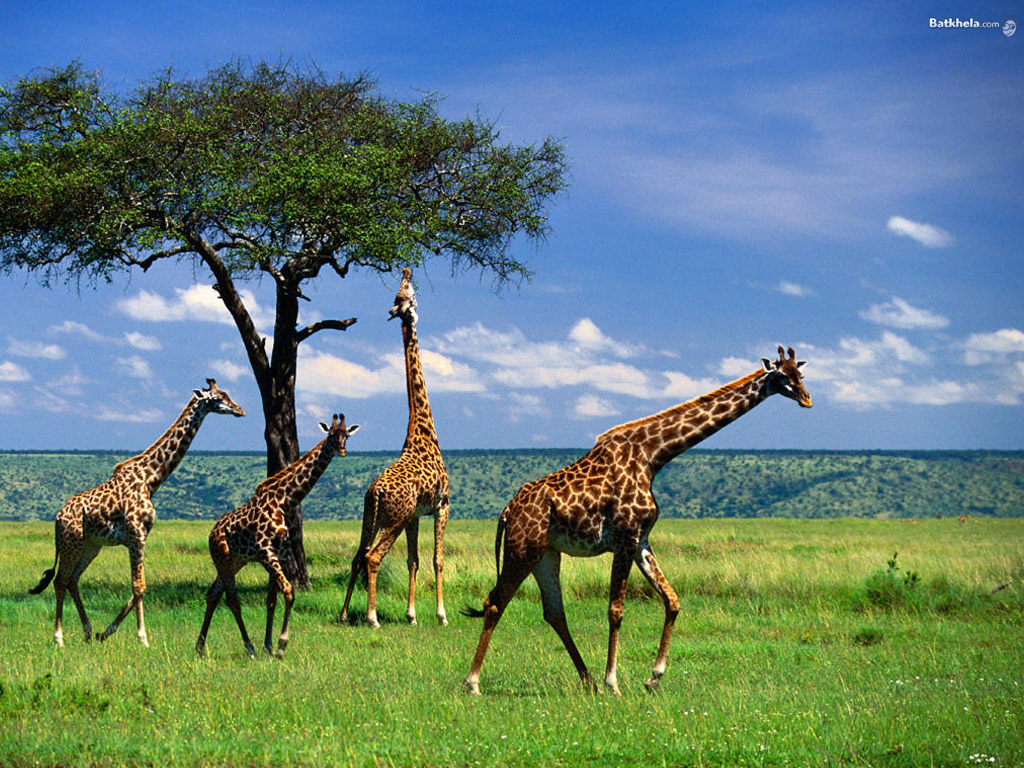Jirafa: (658, 323, 826, 452), (155, 335, 268, 446), (289, 396, 372, 469), (366, 261, 432, 338)
